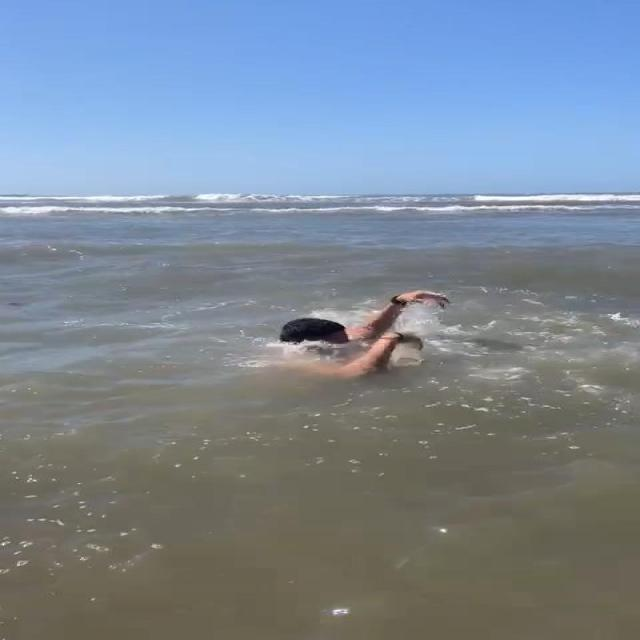Out of Water: (271, 283, 442, 386)
